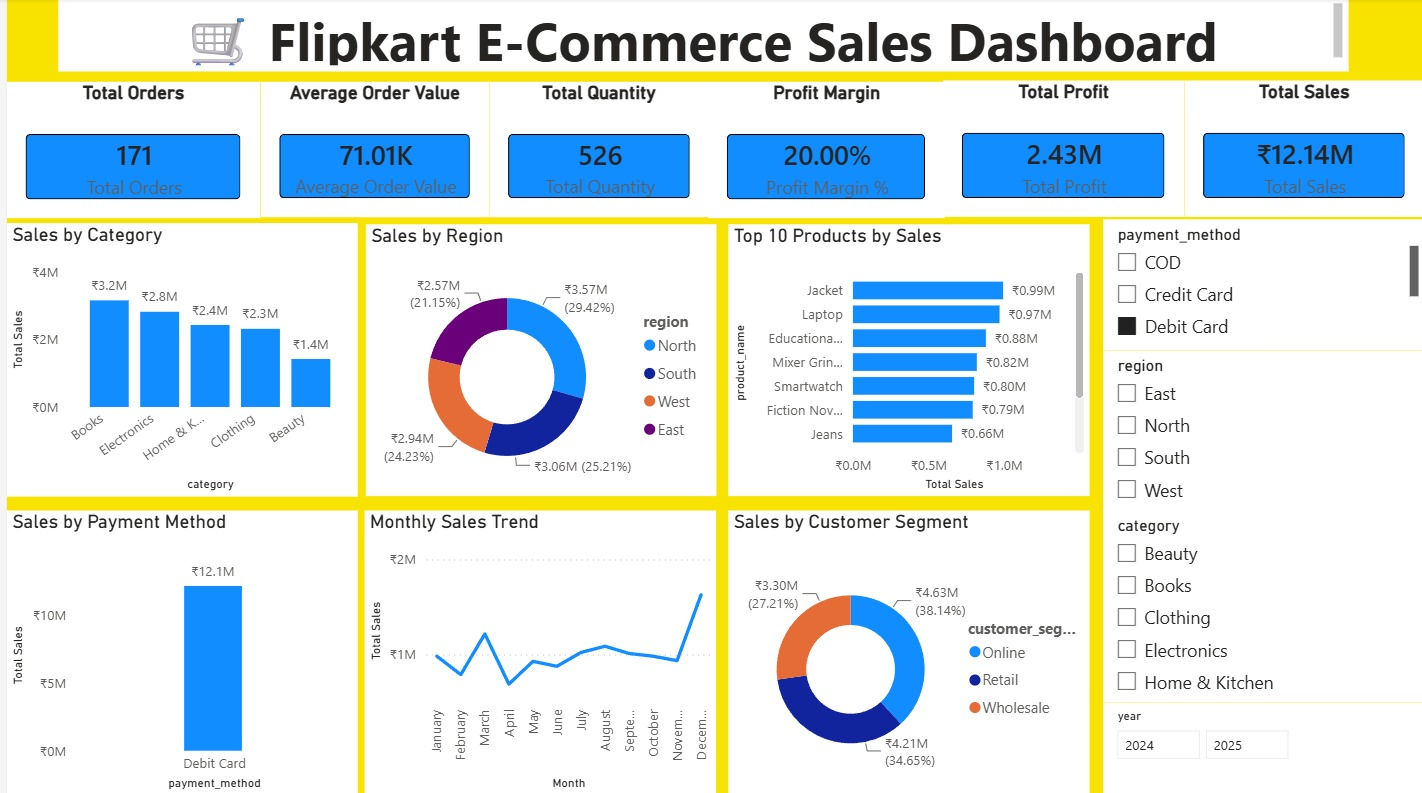

The dashboard page shown, as its layout file describes it:
{"tool":"powerbi","page":{"name":"Page 1","canvas":[1280,720],"ordinal":0},"visuals":[{"type":"cardVisual","title":"Total Sales","fields":{"Data":["flipkart_sales_cleaned.Total Sales"]},"box":[1063.9,74.6,216.4,123.5],"z":0},{"type":"cardVisual","title":"Total Profit","fields":{"Data":["flipkart_sales_cleaned.Total Profit"]},"box":[846.2,74.6,217.7,123.5],"z":1000},{"type":"cardVisual","title":"Average Order Value","fields":{"Data":["flipkart_sales_cleaned.Average Order Value"]},"box":[228.7,75.8,206.7,122.3],"z":2000},{"type":"cardVisual","title":"Profit Margin","fields":{"Data":["flipkart_sales_cleaned.Profit Margin %"]},"box":[633.4,75.8,214,123.5],"z":3000},{"type":"cardVisual","title":"Total Orders","fields":{"Data":["flipkart_sales_cleaned.Total Orders"]},"box":[0,75.8,228.7,123.5],"z":4000},{"type":"cardVisual","title":"Total Quantity","fields":{"Data":["flipkart_sales_cleaned.Total Quantity"]},"box":[435.3,75.8,198.1,122.3],"z":5000},{"type":"clusteredColumnChart","title":"Sales by Category","fields":{"Category":["flipkart_sales_cleaned.category"],"Y":["flipkart_sales_cleaned.Total Sales"]},"box":[0,203,316.7,247],"z":6000},{"type":"donutChart","title":"Sales by Region","fields":{"Category":["flipkart_sales_cleaned.region"],"Y":["flipkart_sales_cleaned.Total Sales"]},"box":[324.1,204.2,316.7,245.8],"z":7000},{"type":"clusteredBarChart","title":"Top 10 Products by Sales","fields":{"Category":["flipkart_sales_cleaned.product_name"],"Y":["flipkart_sales_cleaned.Total Sales"]},"box":[651.8,204.2,326.5,245.8],"z":8000},{"type":"clusteredColumnChart","title":"Sales by Payment Method","fields":{"Category":["flipkart_sales_cleaned.payment_method"],"Y":["flipkart_sales_cleaned.Total Sales"]},"box":[0,463.5,316.7,256.8],"z":9000},{"type":"lineChart","title":"Monthly Sales Trend","fields":{"Y":["flipkart_sales_cleaned.Total Sales"],"Category":["flipkart_sales_cleaned.year_month.Variation.Date Hierarchy.Month"]},"box":[322.8,463.5,317.9,256.8],"z":10000},{"type":"donutChart","title":"Sales by Customer Segment","fields":{"Category":["flipkart_sales_cleaned.customer_segment"],"Y":["flipkart_sales_cleaned.Total Sales"]},"box":[651.8,463.5,326.5,256.8],"z":11000},{"type":"slicer","fields":{"Values":["flipkart_sales_cleaned.category"]},"box":[990.5,463.5,289.8,173.6],"z":12000},{"type":"slicer","fields":{"Values":["flipkart_sales_cleaned.region"]},"box":[990.5,317.9,289.8,145.5],"z":13000},{"type":"slicer","fields":{"Values":["flipkart_sales_cleaned.payment_method"]},"box":[990.5,199.3,289.8,118.6],"z":14000},{"type":"textbox","box":[46.5,0,1165.4,66],"z":15000},{"type":"slicer","fields":{"Values":["flipkart_sales_cleaned.year"]},"box":[990.5,637.1,289.8,83.2],"z":16000}]}

Visuals, with their boxes in screenshot pixels (x1, y1, x2, y2), scaled from the page's 1280x720 canvas onto the 1422x793 screenshot:
"Total Sales" cardVisual: [left=1182, top=82, right=1421, bottom=218]
"Total Profit" cardVisual: [left=940, top=82, right=1182, bottom=218]
"Average Order Value" cardVisual: [left=254, top=83, right=484, bottom=218]
"Profit Margin" cardVisual: [left=704, top=83, right=941, bottom=220]
"Total Orders" cardVisual: [left=0, top=83, right=254, bottom=220]
"Total Quantity" cardVisual: [left=484, top=83, right=704, bottom=218]
"Sales by Category" clusteredColumnChart: [left=0, top=224, right=352, bottom=496]
"Sales by Region" donutChart: [left=360, top=225, right=712, bottom=496]
"Top 10 Products by Sales" clusteredBarChart: [left=724, top=225, right=1087, bottom=496]
"Sales by Payment Method" clusteredColumnChart: [left=0, top=510, right=352, bottom=792]
"Monthly Sales Trend" lineChart: [left=359, top=510, right=712, bottom=792]
"Sales by Customer Segment" donutChart: [left=724, top=510, right=1087, bottom=792]
slicer - flipkart_sales_cleaned.category: [left=1100, top=510, right=1421, bottom=702]
slicer - flipkart_sales_cleaned.region: [left=1100, top=350, right=1421, bottom=510]
slicer - flipkart_sales_cleaned.payment_method: [left=1100, top=220, right=1421, bottom=350]
textbox: [left=52, top=0, right=1346, bottom=73]
slicer - flipkart_sales_cleaned.year: [left=1100, top=702, right=1421, bottom=792]
